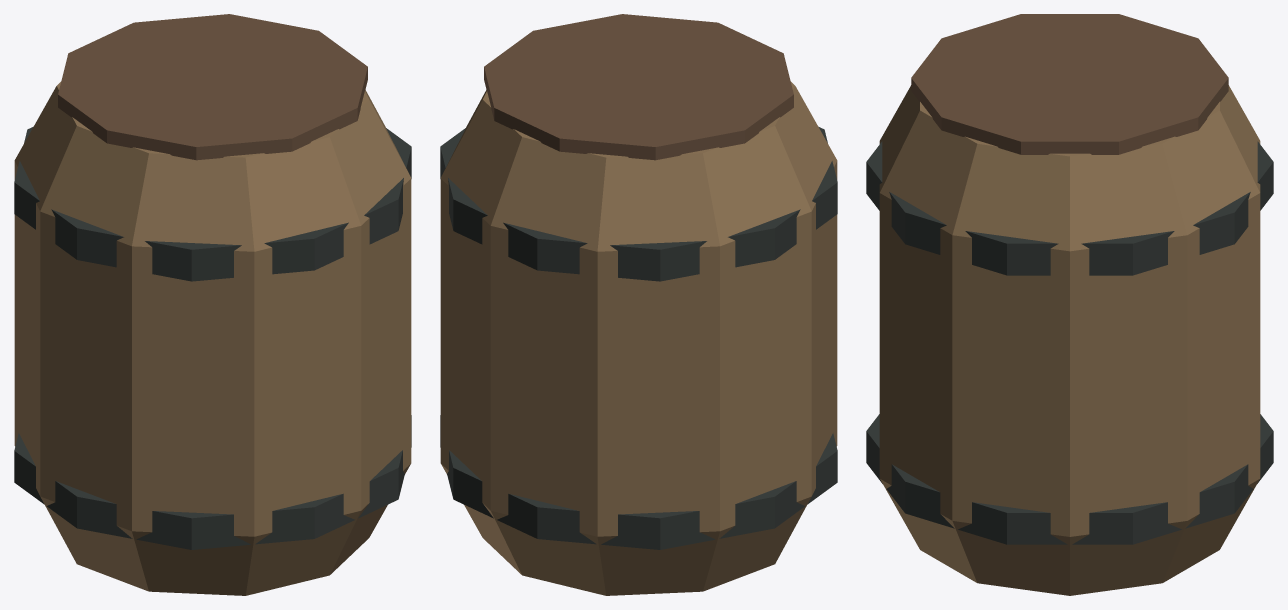
File: barrel.glb
The picture shows the model from 3 angles, left to right: view 1: azimuth 30°, elevation 25°; view 2: azimuth 150°, elevation 25°; view 3: azimuth 270°, elevation 25°; orthographic projection.
Visible parts, largest first — view 1: barrel staves, barrel lid, barrel hoop.001, barrel hoop; view 2: barrel staves, barrel lid, barrel hoop.001, barrel hoop; view 3: barrel staves, barrel lid, barrel hoop.001, barrel hoop.
Boxes of the visible parts, x1,y1,x2,y2 form: barrel staves: (14, 81, 411, 595); barrel lid: (58, 14, 367, 160); barrel hoop.001: (14, 126, 411, 281); barrel hoop: (14, 415, 411, 549); barrel staves: (440, 81, 837, 595); barrel lid: (484, 14, 793, 160); barrel hoop.001: (440, 126, 837, 281); barrel hoop: (440, 415, 837, 549); barrel staves: (879, 85, 1260, 595); barrel lid: (911, 14, 1228, 154); barrel hoop.001: (866, 141, 1273, 275); barrel hoop: (866, 414, 1273, 544).
Bounding box in the file's own units: 0.33 × 0.411 × 0.336.
